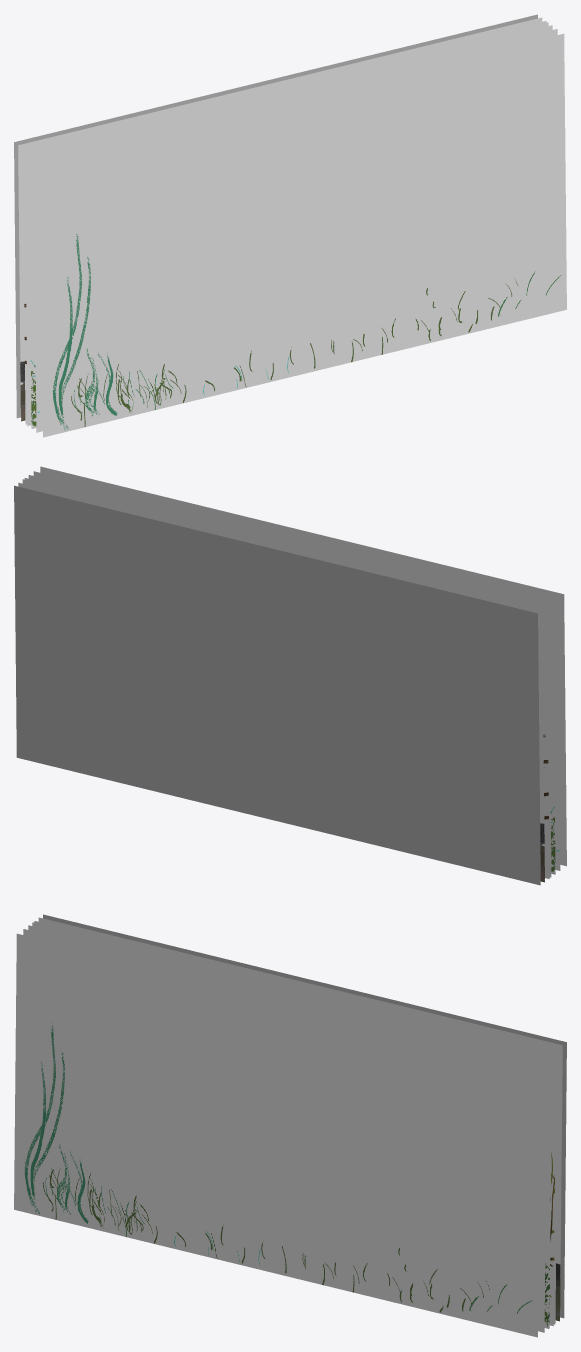
File: tank1.fbx
The picture shows the model from 3 angles, top to bottom: view 1: azimuth 30°, elevation 25°; view 2: azimuth 150°, elevation 25°; view 3: azimuth 330°, elevation 25°; orthographic projection.
Parts seen in each view (by area): view 1: p8, p7, p6, p2, p1, p4, p3; view 2: p1, p8, p7, p3, p2, p6, p4; view 3: p8, p7, p6, p2, p1, p4, p3.
Boxes of the visible parts, <box> form: p8: <box>40,33,566,437</box>; p7: <box>33,29,557,432</box>; p6: <box>28,25,552,428</box>; p2: <box>18,17,542,421</box>; p1: <box>14,14,537,418</box>; p4: <box>24,22,548,426</box>; p3: <box>22,21,546,424</box>; p1: <box>14,485,540,885</box>; p8: <box>40,466,566,866</box>; p7: <box>33,471,560,870</box>; p3: <box>22,479,549,878</box>; p2: <box>18,482,544,882</box>; p6: <box>28,475,555,874</box>; p4: <box>24,478,551,877</box>; p8: <box>14,933,540,1337</box>; p7: <box>23,929,547,1332</box>; p6: <box>28,925,552,1328</box>; p2: <box>38,917,562,1321</box>; p1: <box>43,914,566,1318</box>; p4: <box>32,922,556,1326</box>; p3: <box>34,921,558,1324</box>.
Size of the model in its own units: 200 by 99.98 by 19.15.
